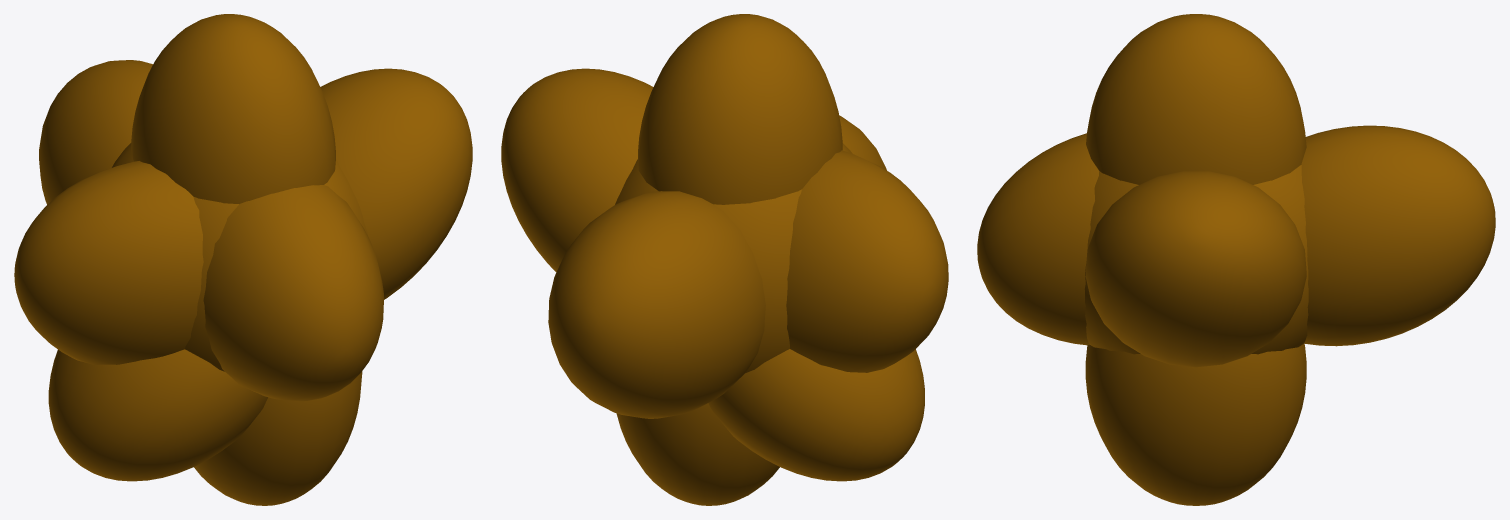
Rendered from rock.fbx.
3 views of the same model, side by side, from view 1: azimuth 30°, elevation 25°; view 2: azimuth 150°, elevation 25°; view 3: azimuth 270°, elevation 25° (orthographic). The views are drawn at different scales.
Visible parts, largest first — view 1: pSphere6, pSphere8, pSphere2, pSphere3, pSphere4, pSphere5, pSphere7, pSphere1; view 2: pSphere7, pSphere2, pSphere8, pSphere4, pSphere3, pSphere5, pSphere1, pSphere6; view 3: pSphere7, pSphere3, pSphere2, pSphere5, pSphere6, pSphere1.
Boxes of the visible parts, <box> form: pSphere6: <box>203,185,383,401</box>; pSphere8: <box>14,161,203,364</box>; pSphere2: <box>131,14,335,203</box>; pSphere3: <box>320,68,472,299</box>; pSphere4: <box>48,349,267,481</box>; pSphere5: <box>194,371,362,505</box>; pSphere7: <box>39,60,152,204</box>; pSphere1: <box>112,143,367,371</box>; pSphere7: <box>548,191,765,418</box>; pSphere2: <box>638,14,842,204</box>; pSphere8: <box>786,150,948,372</box>; pSphere4: <box>708,349,924,481</box>; pSphere3: <box>501,68,653,271</box>; pSphere5: <box>616,403,779,505</box>; pSphere1: <box>615,143,852,372</box>; pSphere6: <box>839,115,886,170</box>; pSphere7: <box>1301,125,1495,346</box>; pSphere3: <box>1085,171,1306,367</box>; pSphere2: <box>1086,14,1306,184</box>; pSphere5: <box>1085,343,1306,505</box>; pSphere6: <box>977,133,1099,345</box>; pSphere1: <box>1084,165,1308,354</box>.
Bounding box in the file's own units: 2.72 × 2.92 × 2.93.
